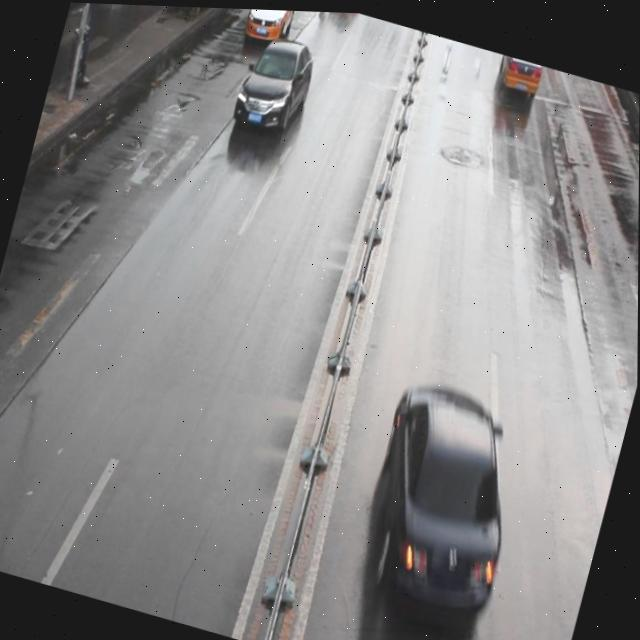car: (345, 367, 539, 625), (228, 23, 319, 144), (492, 50, 543, 93), (241, 7, 297, 43)
